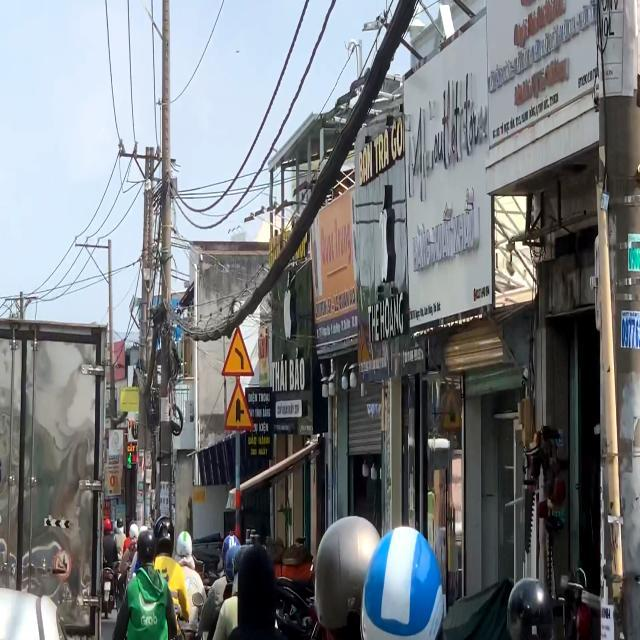W-201a: (218, 322, 252, 376)
W-207b: (222, 379, 252, 430)
